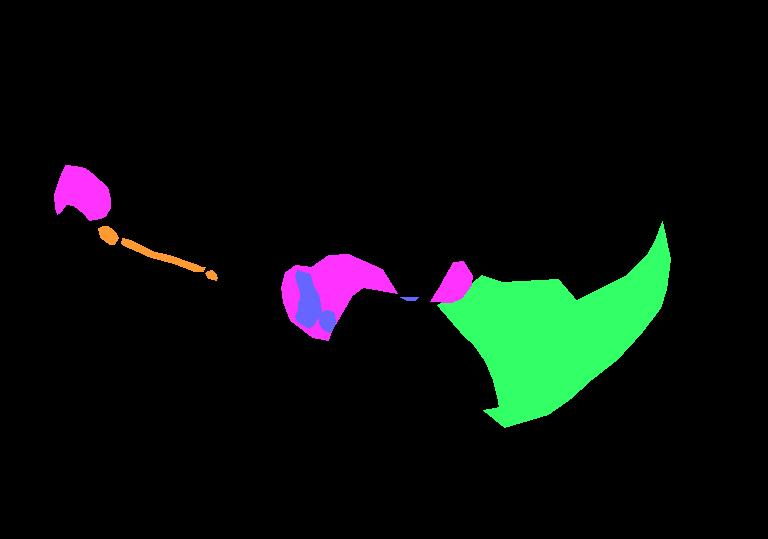Broken part: (437, 221, 670, 427)
Dent: (281, 254, 397, 340), (54, 165, 110, 220), (430, 261, 472, 302)
Paint chip: (121, 238, 205, 271), (98, 226, 118, 244), (205, 270, 217, 280)
Scratch: (295, 270, 321, 328), (319, 310, 335, 332), (400, 297, 418, 300)
